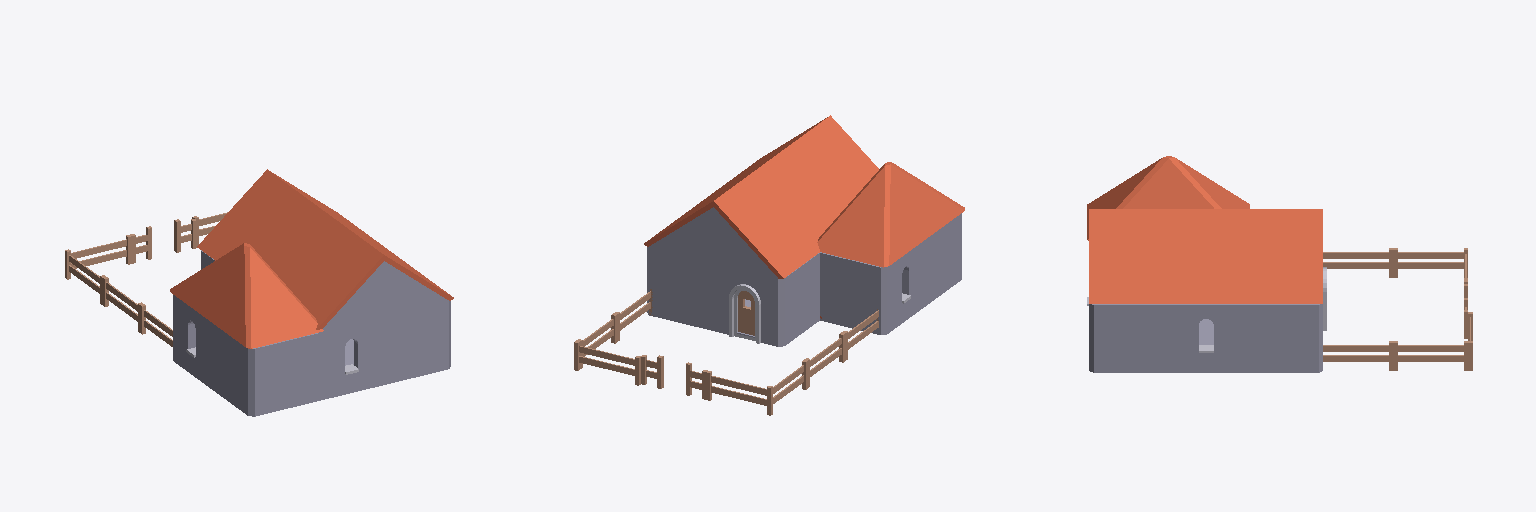
The model's file is House6.obj.
3 renders of one model, left to right at view 1: azimuth 30°, elevation 25°; view 2: azimuth 150°, elevation 25°; view 3: azimuth 270°, elevation 25°, orthographic.
Size of the model in its own units: 3.2 by 1.99 by 5.16.